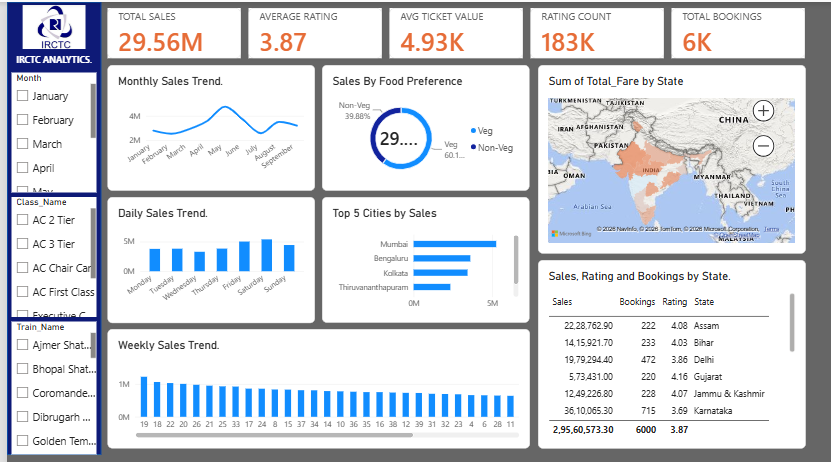

The page's visual inventory and layout, read from the dashboard file:
{"tool":"powerbi","page":{"name":"Page 1","canvas":[1920,1080],"ordinal":0},"visuals":[{"type":"shape","box":[0,0,150,720],"z":0},{"type":"cardVisual","fields":{"Data":["Sum(IRCTC_Bookings_2026.Total_Fare)"]},"box":[160,10,212,80],"z":1000},{"type":"cardVisual","fields":{"Data":["Avg(IRCTC_Bookings_2026.Total_Fare)"]},"box":[608,10,212,80],"z":2000},{"type":"cardVisual","fields":{"Data":["Avg(IRCTC_Bookings_2026.Rating)"]},"box":[384,10,212,80],"z":3000},{"type":"cardVisual","fields":{"Data":["Sum(IRCTC_Bookings_2026.Rating_Count)"]},"box":[832,10,212,80],"z":4000},{"type":"cardVisual","fields":{"Data":["CountNonNull(IRCTC_Bookings_2026.Booking_ID)"]},"box":[1056,10,212,80],"z":5000},{"type":"lineChart","title":"Monthly Sales Trend.","fields":{"Category":["IRCTC_Bookings_2026.Month"],"Y":["Sum(IRCTC_Bookings_2026.Total_Fare)"]},"box":[160,100,330,200],"z":6000},{"type":"donutChart","title":"Sales By Food Preference","fields":{"Category":["IRCTC_Bookings_2026.Food_Preference"],"Y":["Sum(IRCTC_Bookings_2026.Total_Fare)"]},"box":[502,100,330,200],"z":7000},{"type":"filledMap","fields":{"Category":["IRCTC_Bookings_2026.State"]},"box":[844,100,426,300],"z":8000},{"type":"clusteredColumnChart","title":"Daily Sales Trend.","fields":{"Category":["IRCTC_Bookings_2026.Day_of_Week"],"Y":["Sum(IRCTC_Bookings_2026.Total_Fare)"]},"box":[160,310,330,200.4],"z":9000},{"type":"clusteredBarChart","title":"Top 5 Cities by Sales","fields":{"Category":["IRCTC_Bookings_2026.Source_City"],"Y":["Sum(IRCTC_Bookings_2026.Total_Fare)"]},"box":[502,310,330,200],"z":10000},{"type":"clusteredColumnChart","title":"Weekly Sales Trend.","fields":{"Category":["IRCTC_Bookings_2026.Week_No"],"Y":["Sum(IRCTC_Bookings_2026.Total_Fare)"]},"box":[160,520,672,190],"z":11000},{"type":"tableEx","title":"Sales, Rating and Bookings by State.","fields":{"Values":["Sum(IRCTC_Bookings_2026.Total_Fare)","IRCTC_Bookings_2026.Booking_ID","Avg(IRCTC_Bookings_2026.Rating)","IRCTC_Bookings_2026.State"]},"box":[844,410,426,300],"z":12000},{"type":"slicer","fields":{"Values":["IRCTC_Bookings_2026.Month"]},"box":[8,112,134,190],"z":13000},{"type":"slicer","fields":{"Values":["IRCTC_Bookings_2026.Class_Name"]},"box":[8,310,134,190],"z":14000},{"type":"slicer","fields":{"Values":["IRCTC_Bookings_2026.Train_Name"]},"box":[8,508,134,210],"z":15000},{"type":"image","box":[10,5,130,70],"z":16000},{"type":"textbox","box":[5,80,140,28],"z":17000}]}

Visuals, with their boxes in screenshot pixels (x1, y1, x2, y2), scaled from the page's 1920x1080 canvas onto the 831x462 screenshot:
shape: 0, 0, 65, 308
cardVisual - Sum(IRCTC_Bookings_2026.Total_Fare): 69, 4, 161, 38
cardVisual - Avg(IRCTC_Bookings_2026.Total_Fare): 263, 4, 355, 38
cardVisual - Avg(IRCTC_Bookings_2026.Rating): 166, 4, 258, 38
cardVisual - Sum(IRCTC_Bookings_2026.Rating_Count): 360, 4, 452, 38
cardVisual - CountNonNull(IRCTC_Bookings_2026.Booking_ID): 457, 4, 549, 38
"Monthly Sales Trend." lineChart: 69, 43, 212, 128
"Sales By Food Preference" donutChart: 217, 43, 360, 128
filledMap - IRCTC_Bookings_2026.State: 365, 43, 550, 171
"Daily Sales Trend." clusteredColumnChart: 69, 133, 212, 218
"Top 5 Cities by Sales" clusteredBarChart: 217, 133, 360, 218
"Weekly Sales Trend." clusteredColumnChart: 69, 222, 360, 304
"Sales, Rating and Bookings by State." tableEx: 365, 175, 550, 304
slicer - IRCTC_Bookings_2026.Month: 3, 48, 61, 129
slicer - IRCTC_Bookings_2026.Class_Name: 3, 133, 61, 214
slicer - IRCTC_Bookings_2026.Train_Name: 3, 217, 61, 307
image: 4, 2, 61, 32
textbox: 2, 34, 63, 46
